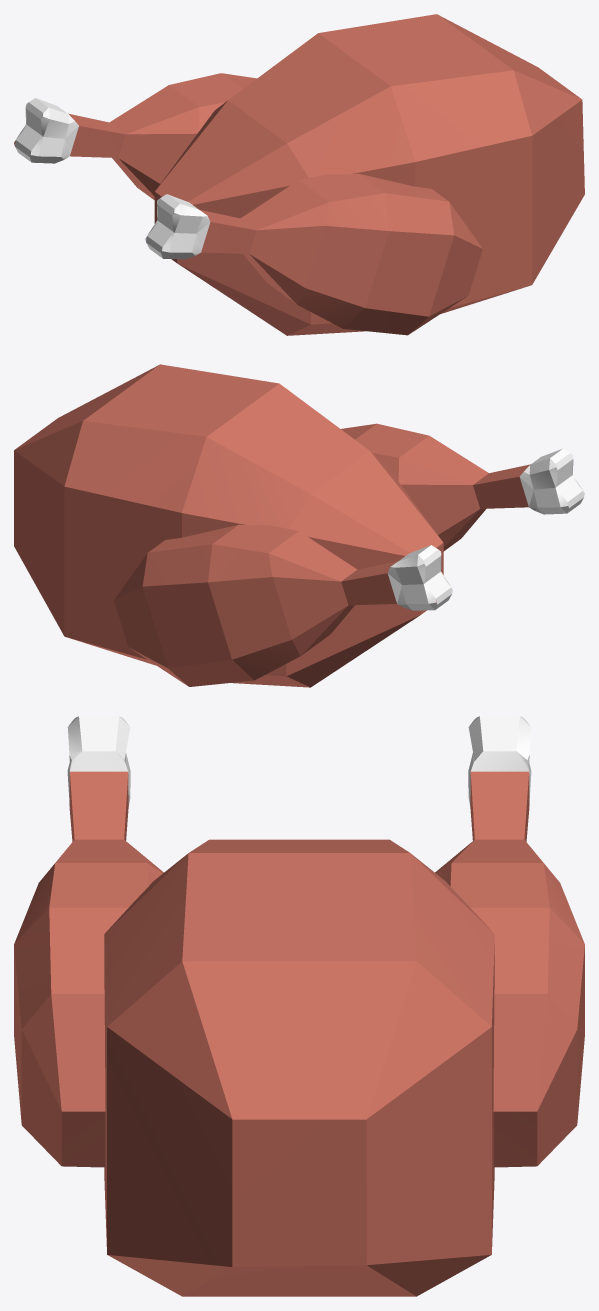
File: Chicken_01.fbx
The picture shows the model from 3 angles, top to bottom: view 1: azimuth 30°, elevation 25°; view 2: azimuth 150°, elevation 25°; view 3: azimuth 270°, elevation 25°; orthographic projection. The views are drawn at different scales.
Parts seen in each view (by area): view 1: Chicken_01; view 2: Chicken_01; view 3: Chicken_01.
Part boxes in pixels (x1=…): Chicken_01: x1=14, y1=14, x2=584, y2=335; Chicken_01: x1=14, y1=364, x2=584, y2=687; Chicken_01: x1=14, y1=716, x2=584, y2=1296.
Size of the model in its own units: 27.15 by 13.3 by 18.52.
